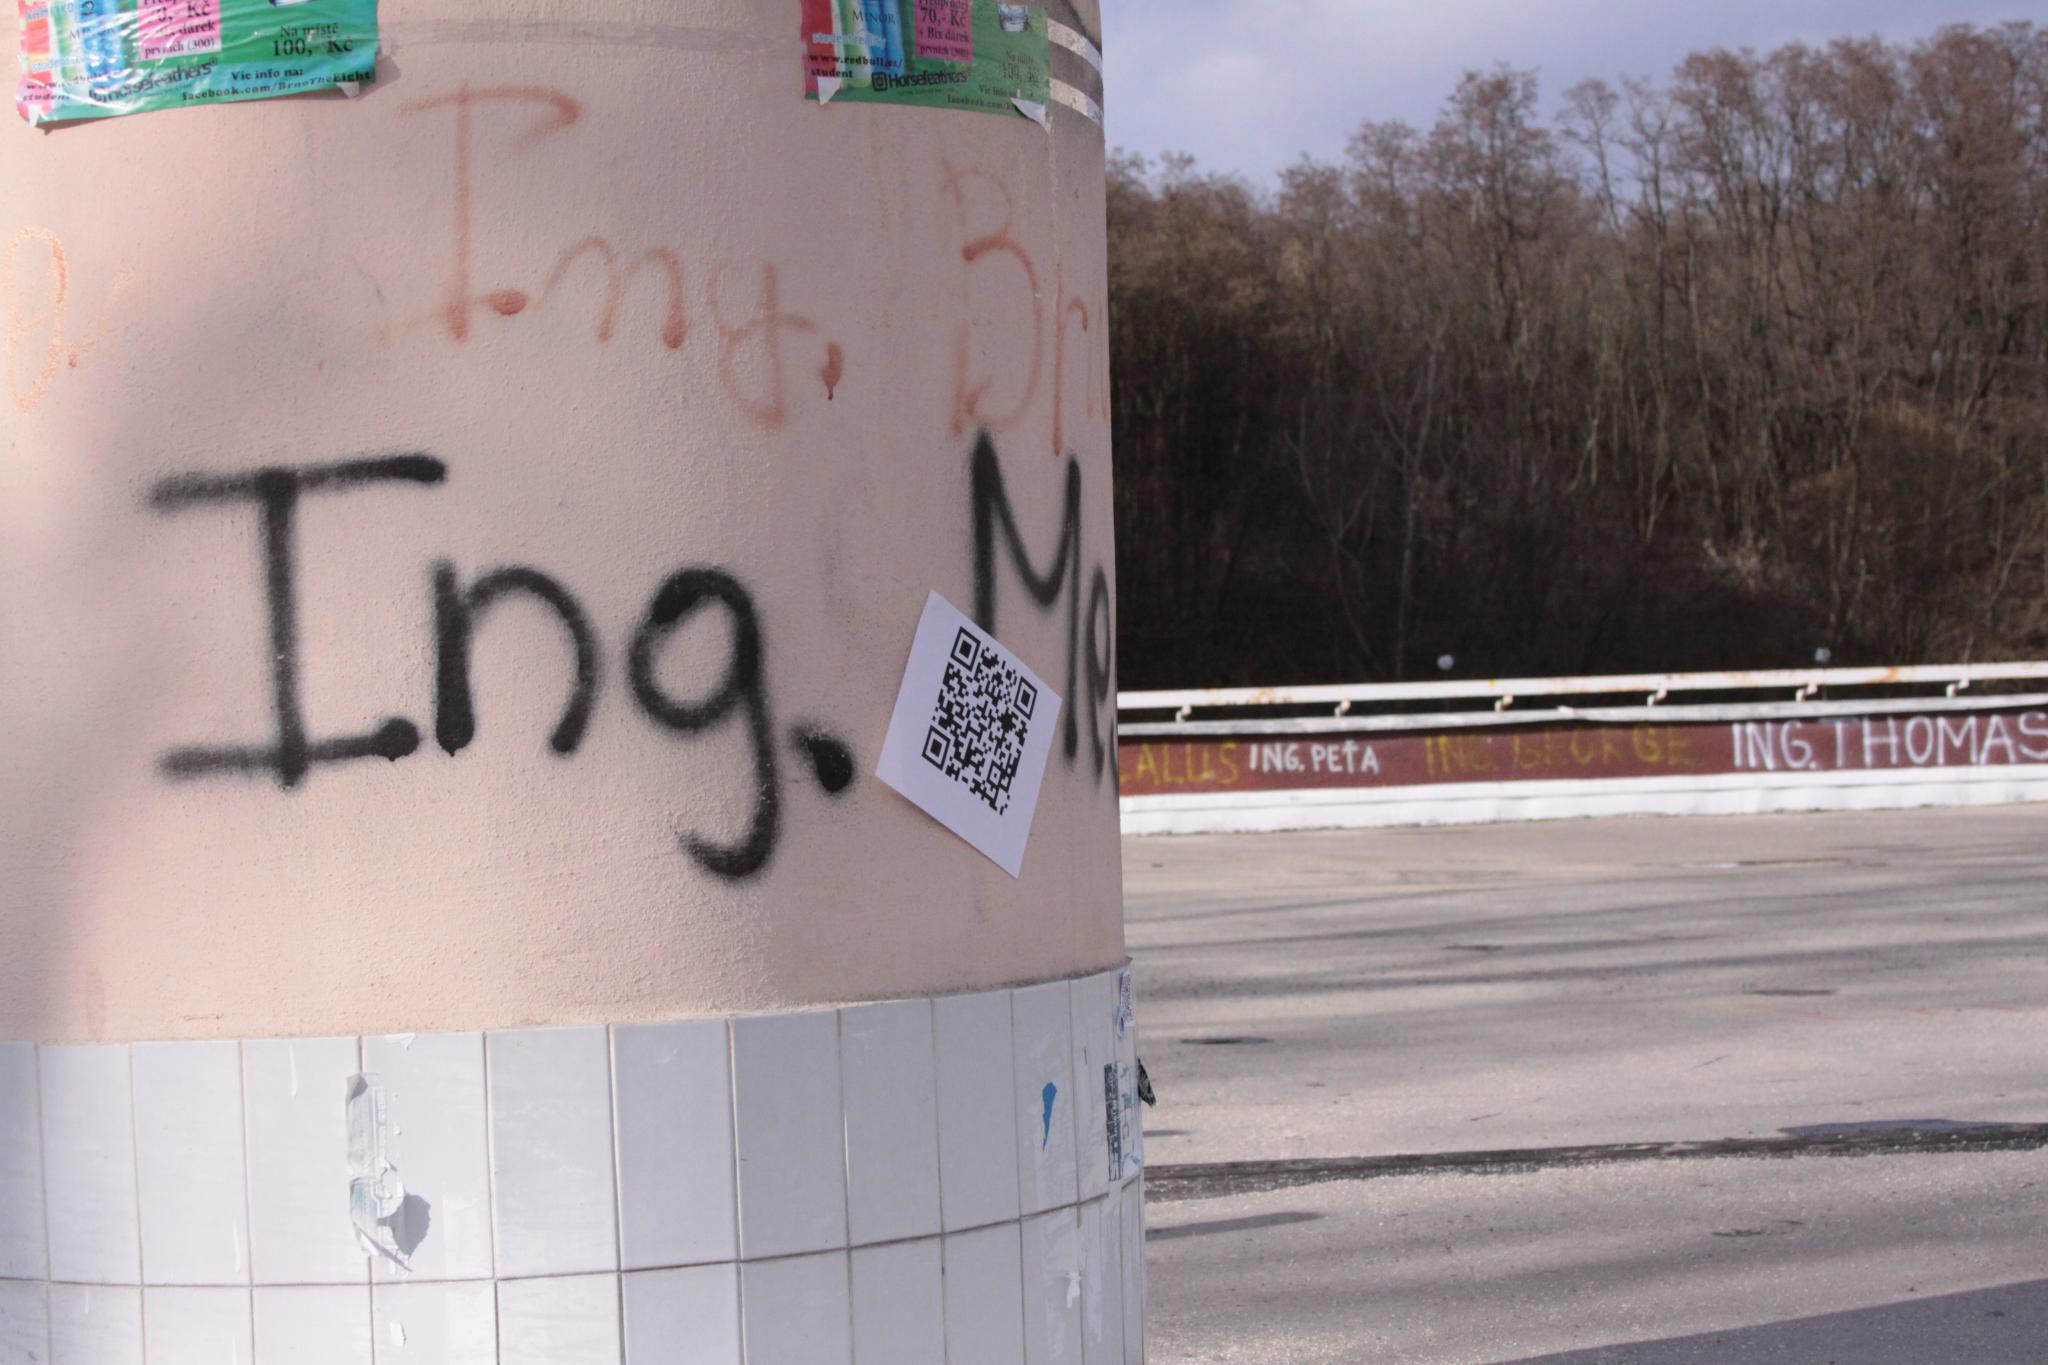Finder pattern: (911, 724, 950, 772), (1008, 676, 1048, 724), (947, 628, 987, 670)
